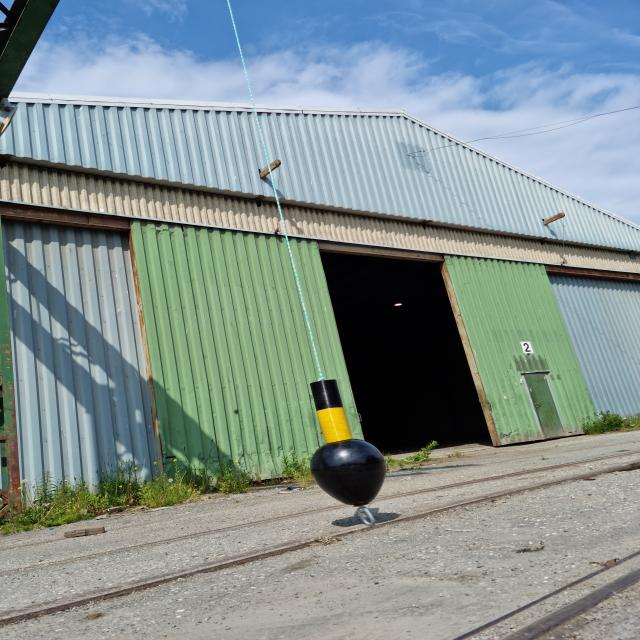east: (307, 380, 388, 507)
